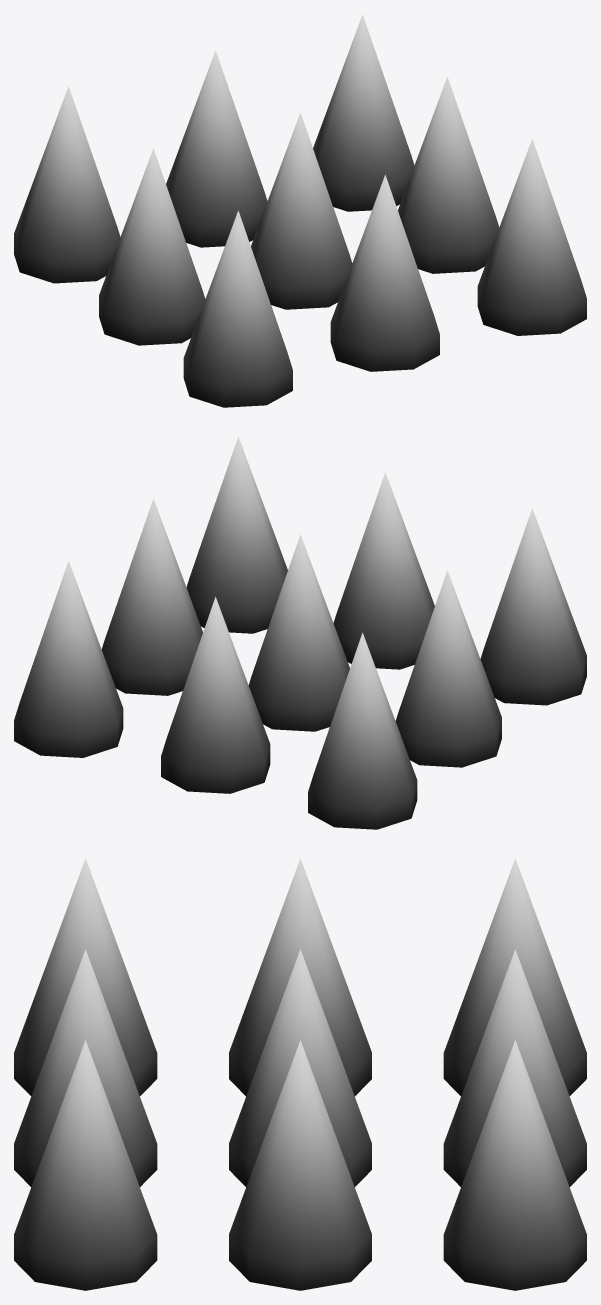
Rendered from spikes.gltf.
3 views of the same model, one above another, from view 1: azimuth 30°, elevation 25°; view 2: azimuth 150°, elevation 25°; view 3: azimuth 270°, elevation 25° (orthographic). The views are drawn at different scales.
Visible parts, largest first — view 1: Spike; view 2: Spike; view 3: Spike.
Part boxes in pixels (x1,y1,x2,y2): Spike: (14, 15, 586, 407); Spike: (14, 437, 586, 829); Spike: (14, 858, 586, 1290).
Size of the model in its own units: 0.8 by 0.3402 by 0.8.
Materials: 1 (1 with a texture image).
